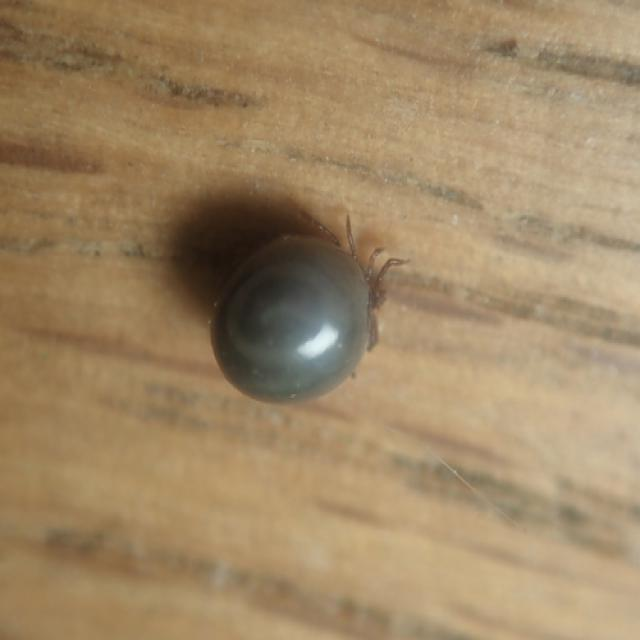Ixodes Ricinus-F-Fed: (209, 212, 407, 404)
